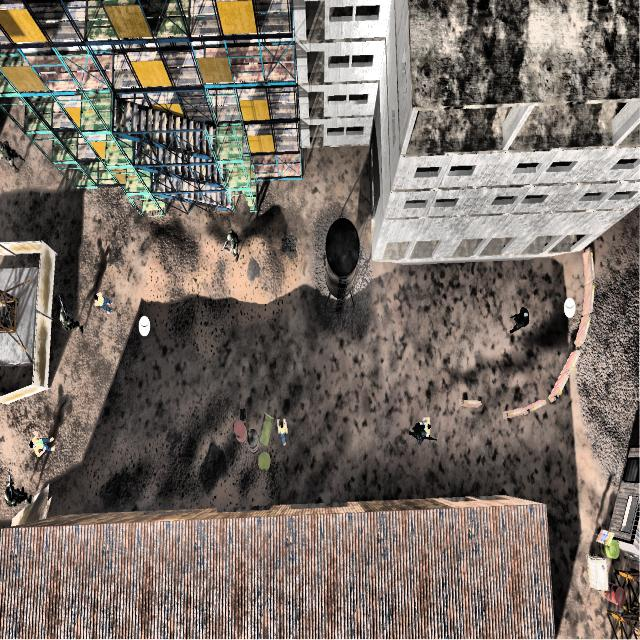bad: (213, 216, 246, 272), (54, 296, 85, 344), (0, 132, 26, 187), (0, 472, 33, 515), (503, 301, 532, 345), (408, 414, 426, 448)
good: (27, 425, 59, 462), (275, 407, 291, 453), (91, 288, 112, 323), (424, 413, 434, 440)
